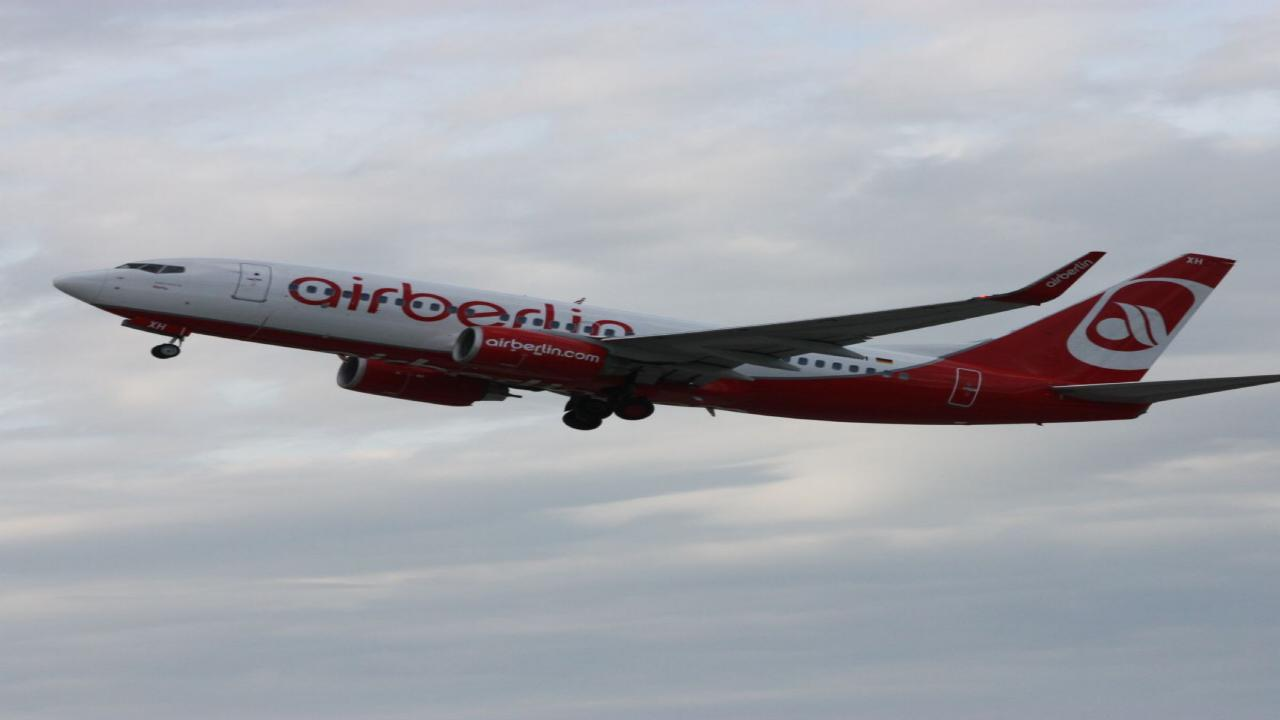Airplane: (32, 209, 1280, 458)
